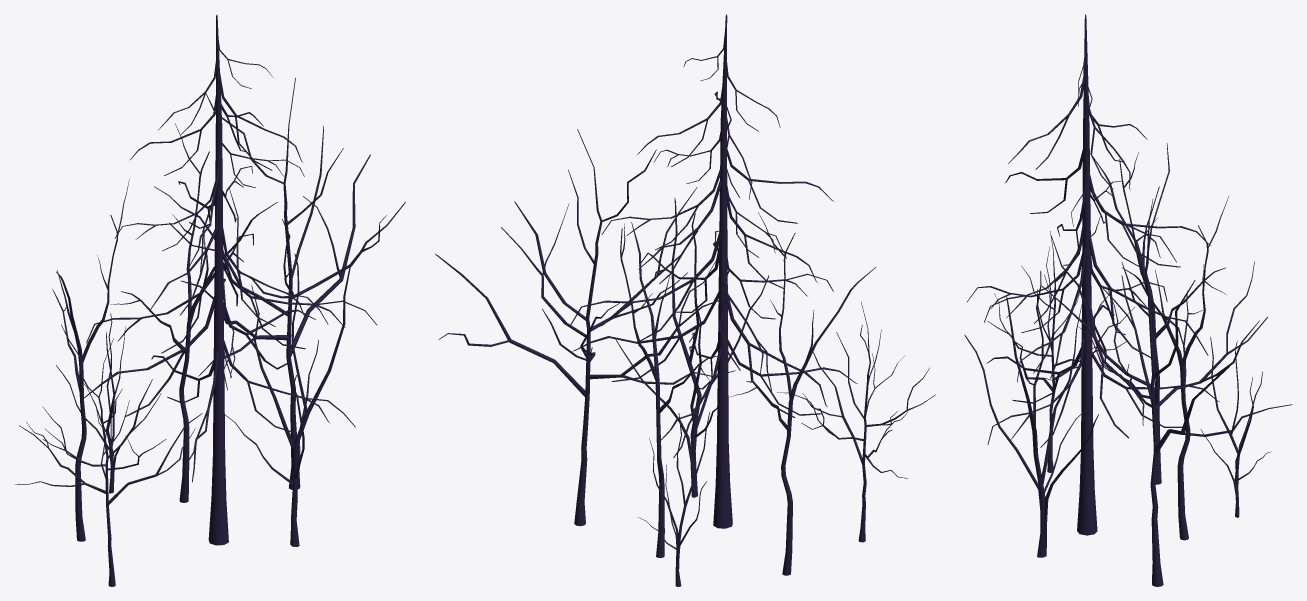
The model's file is cmc_barrentree_posed.fbx.
The picture shows the model from 3 angles, left to right: view 1: azimuth 30°, elevation 25°; view 2: azimuth 150°, elevation 25°; view 3: azimuth 270°, elevation 25°; orthographic projection. The views are drawn at different scales.
Visible parts, largest first — view 1: barren_trees_posed; view 2: barren_trees_posed; view 3: barren_trees_posed.
Boxes of the visible parts, x1,y1,x2,y2 form: barren_trees_posed: (14, 14, 405, 586); barren_trees_posed: (435, 14, 935, 586); barren_trees_posed: (964, 14, 1292, 586).
Bounding box in the file's own units: 17.88 × 21.3 × 12.27.
